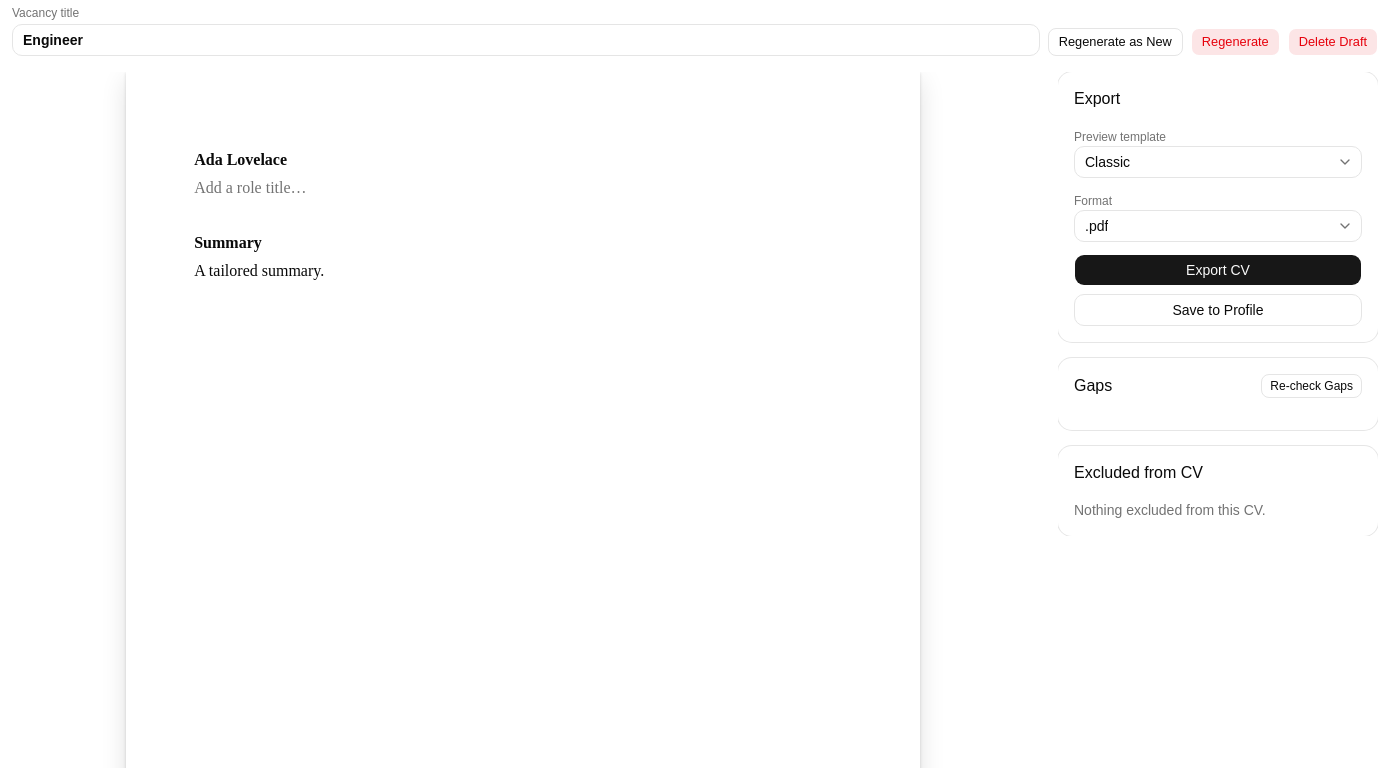
Test: DraftScreen › clicking Regenerate asks for confirmation naming the current title, then re-tailors against the same JD and PUTs the result onto this same draft
Expected: the text box "A tailored summary." is shown, [194,262,324,279]
What coordinates should you click on to do the following:
click the button "Regenerate"
I would click on:
 (1235, 42)
Its box is [1191,28,1280,56].
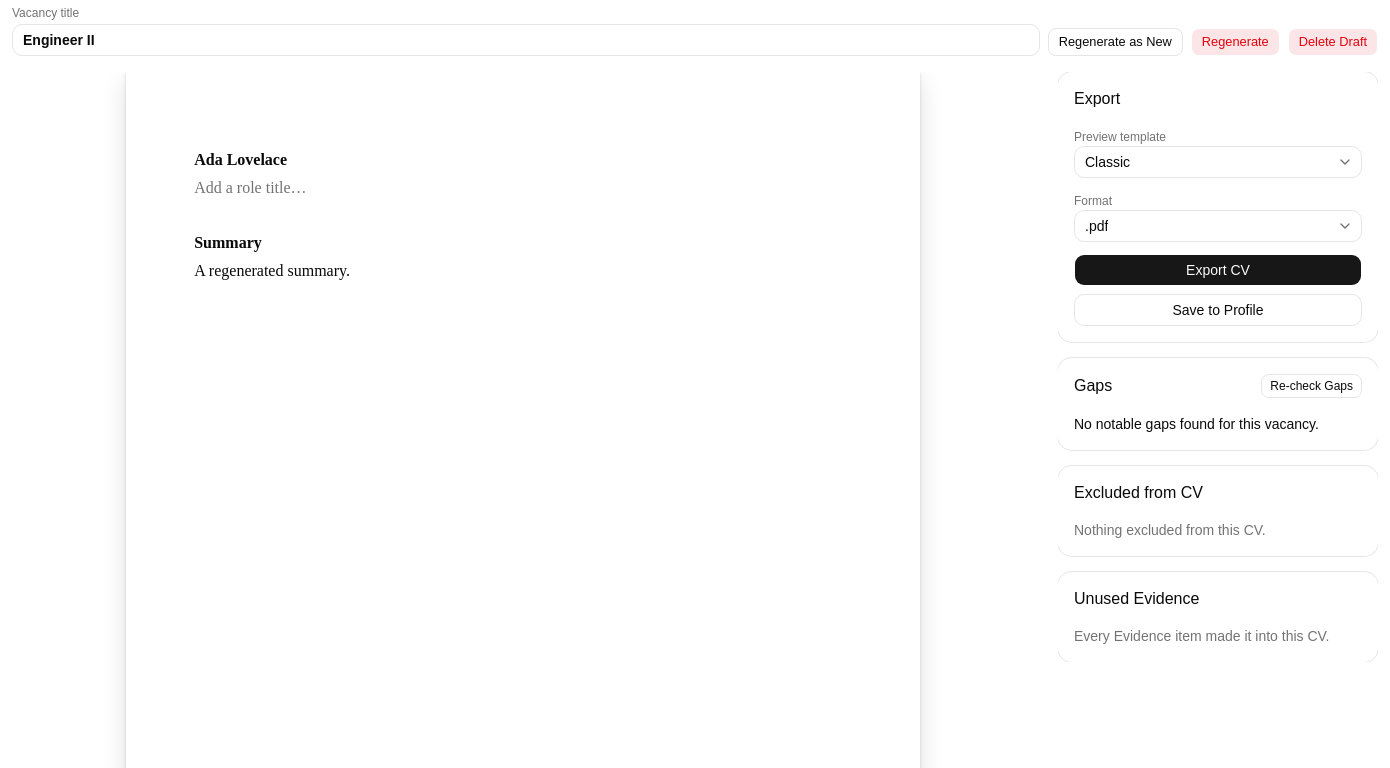
Result: the text box "A regenerated summary." is shown at [194,262,350,279]
Result: the field labelled "Vacancy title" holds "Engineer II" at [12,24,1040,56]
